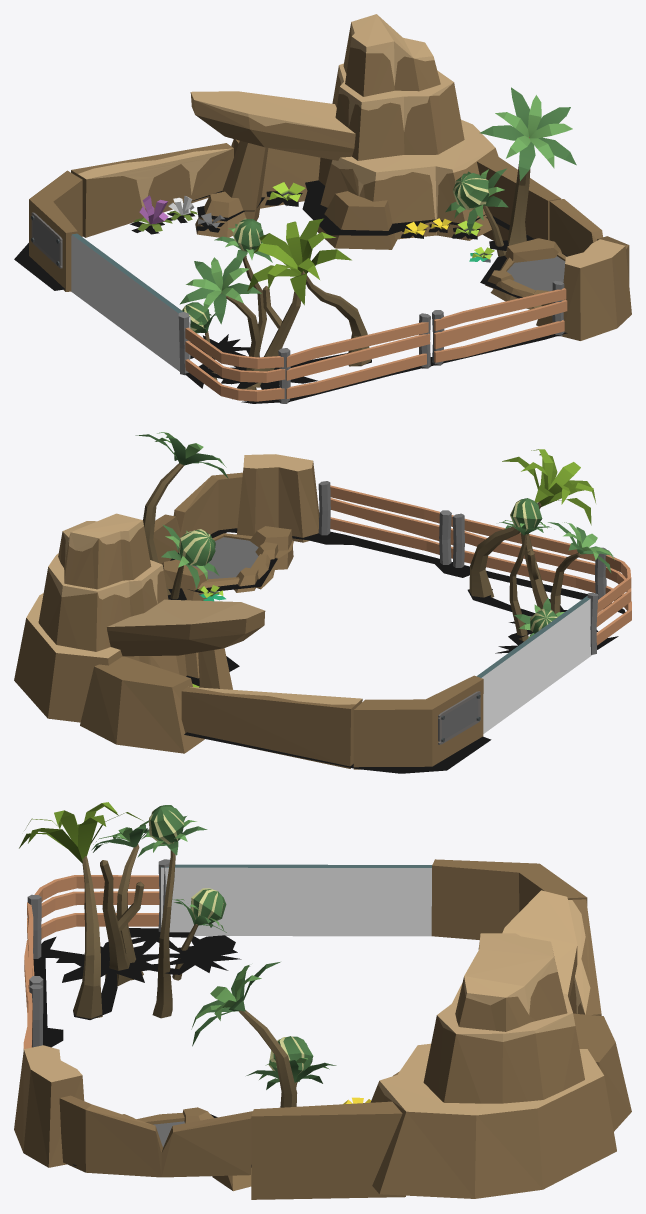
Rendered from xweilan_1003_1.FBX.
3 renders of one model, top to bottom at view 1: azimuth 30°, elevation 25°; view 2: azimuth 150°, elevation 25°; view 3: azimuth 270°, elevation 25°, orthographic. The views are drawn at different scales.
Visible parts, largest first — view 1: xweilan_1003_1; view 2: xweilan_1003_1; view 3: xweilan_1003_1.
Boxes of the visible parts, x1,y1,x2,y2 form: xweilan_1003_1: [14, 14, 631, 403]; xweilan_1003_1: [14, 432, 631, 773]; xweilan_1003_1: [14, 802, 631, 1199].
Bounding box in the file's own units: 4627 × 1941 × 4648.
